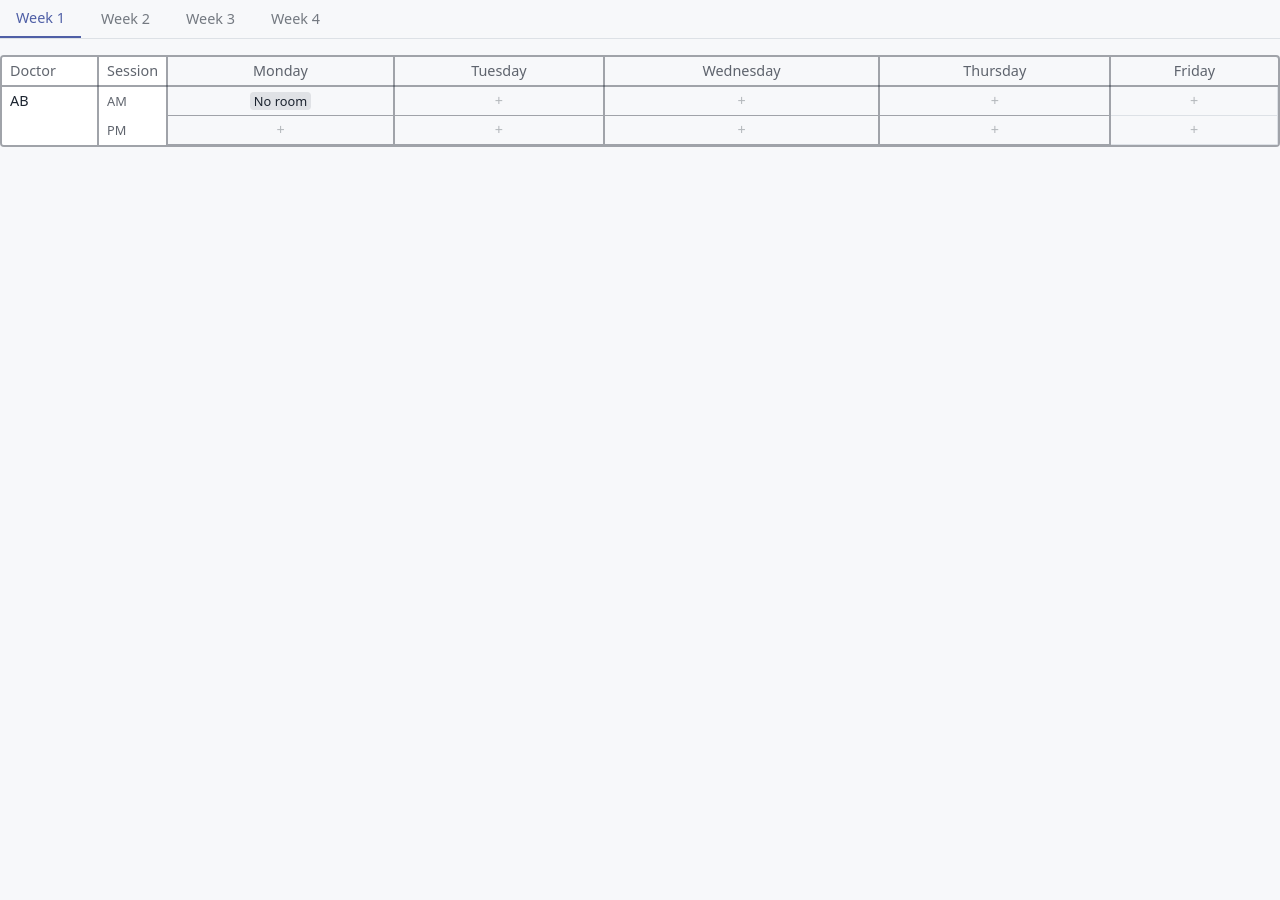
Test: MasterRotaGrid › a successful edit reflects in the grid, driven by the live query cache update
Click the element showing "No room".
click(280, 101)  # box left=250, top=92, right=311, bottom=110
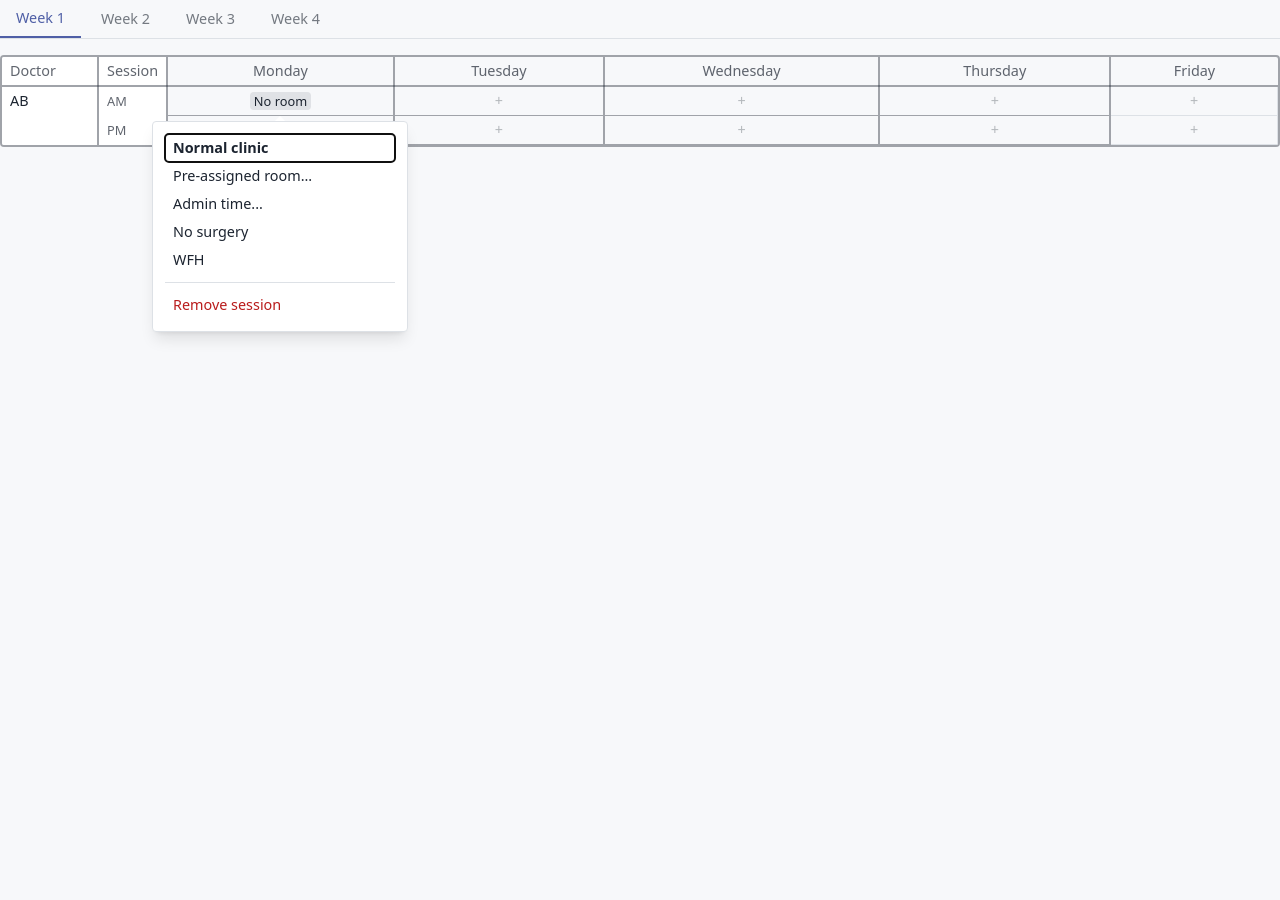
Click the button "No surgery".
click(280, 232)  # box left=165, top=218, right=395, bottom=246
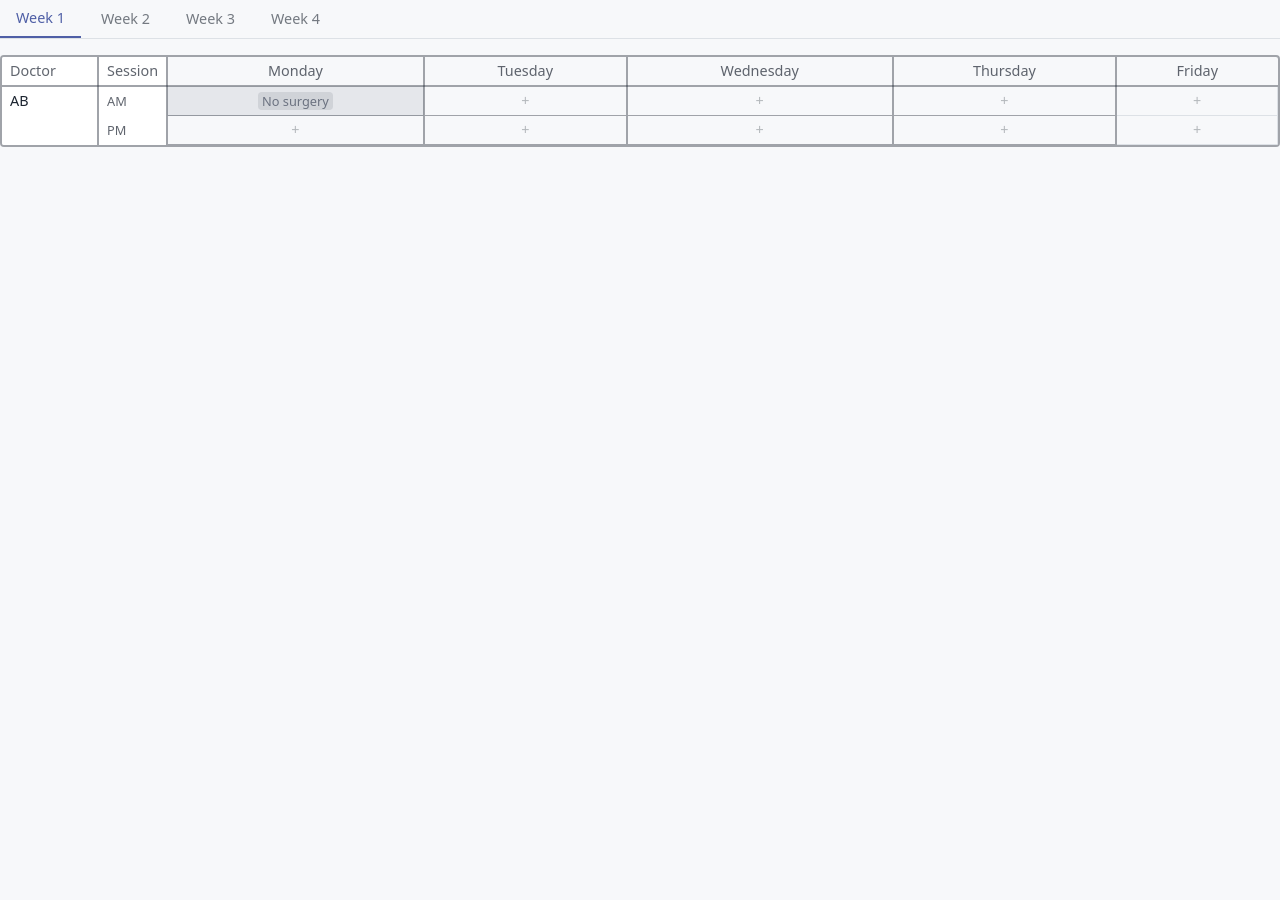
Check: the text "No surgery" is shown, box left=258, top=92, right=333, bottom=110
